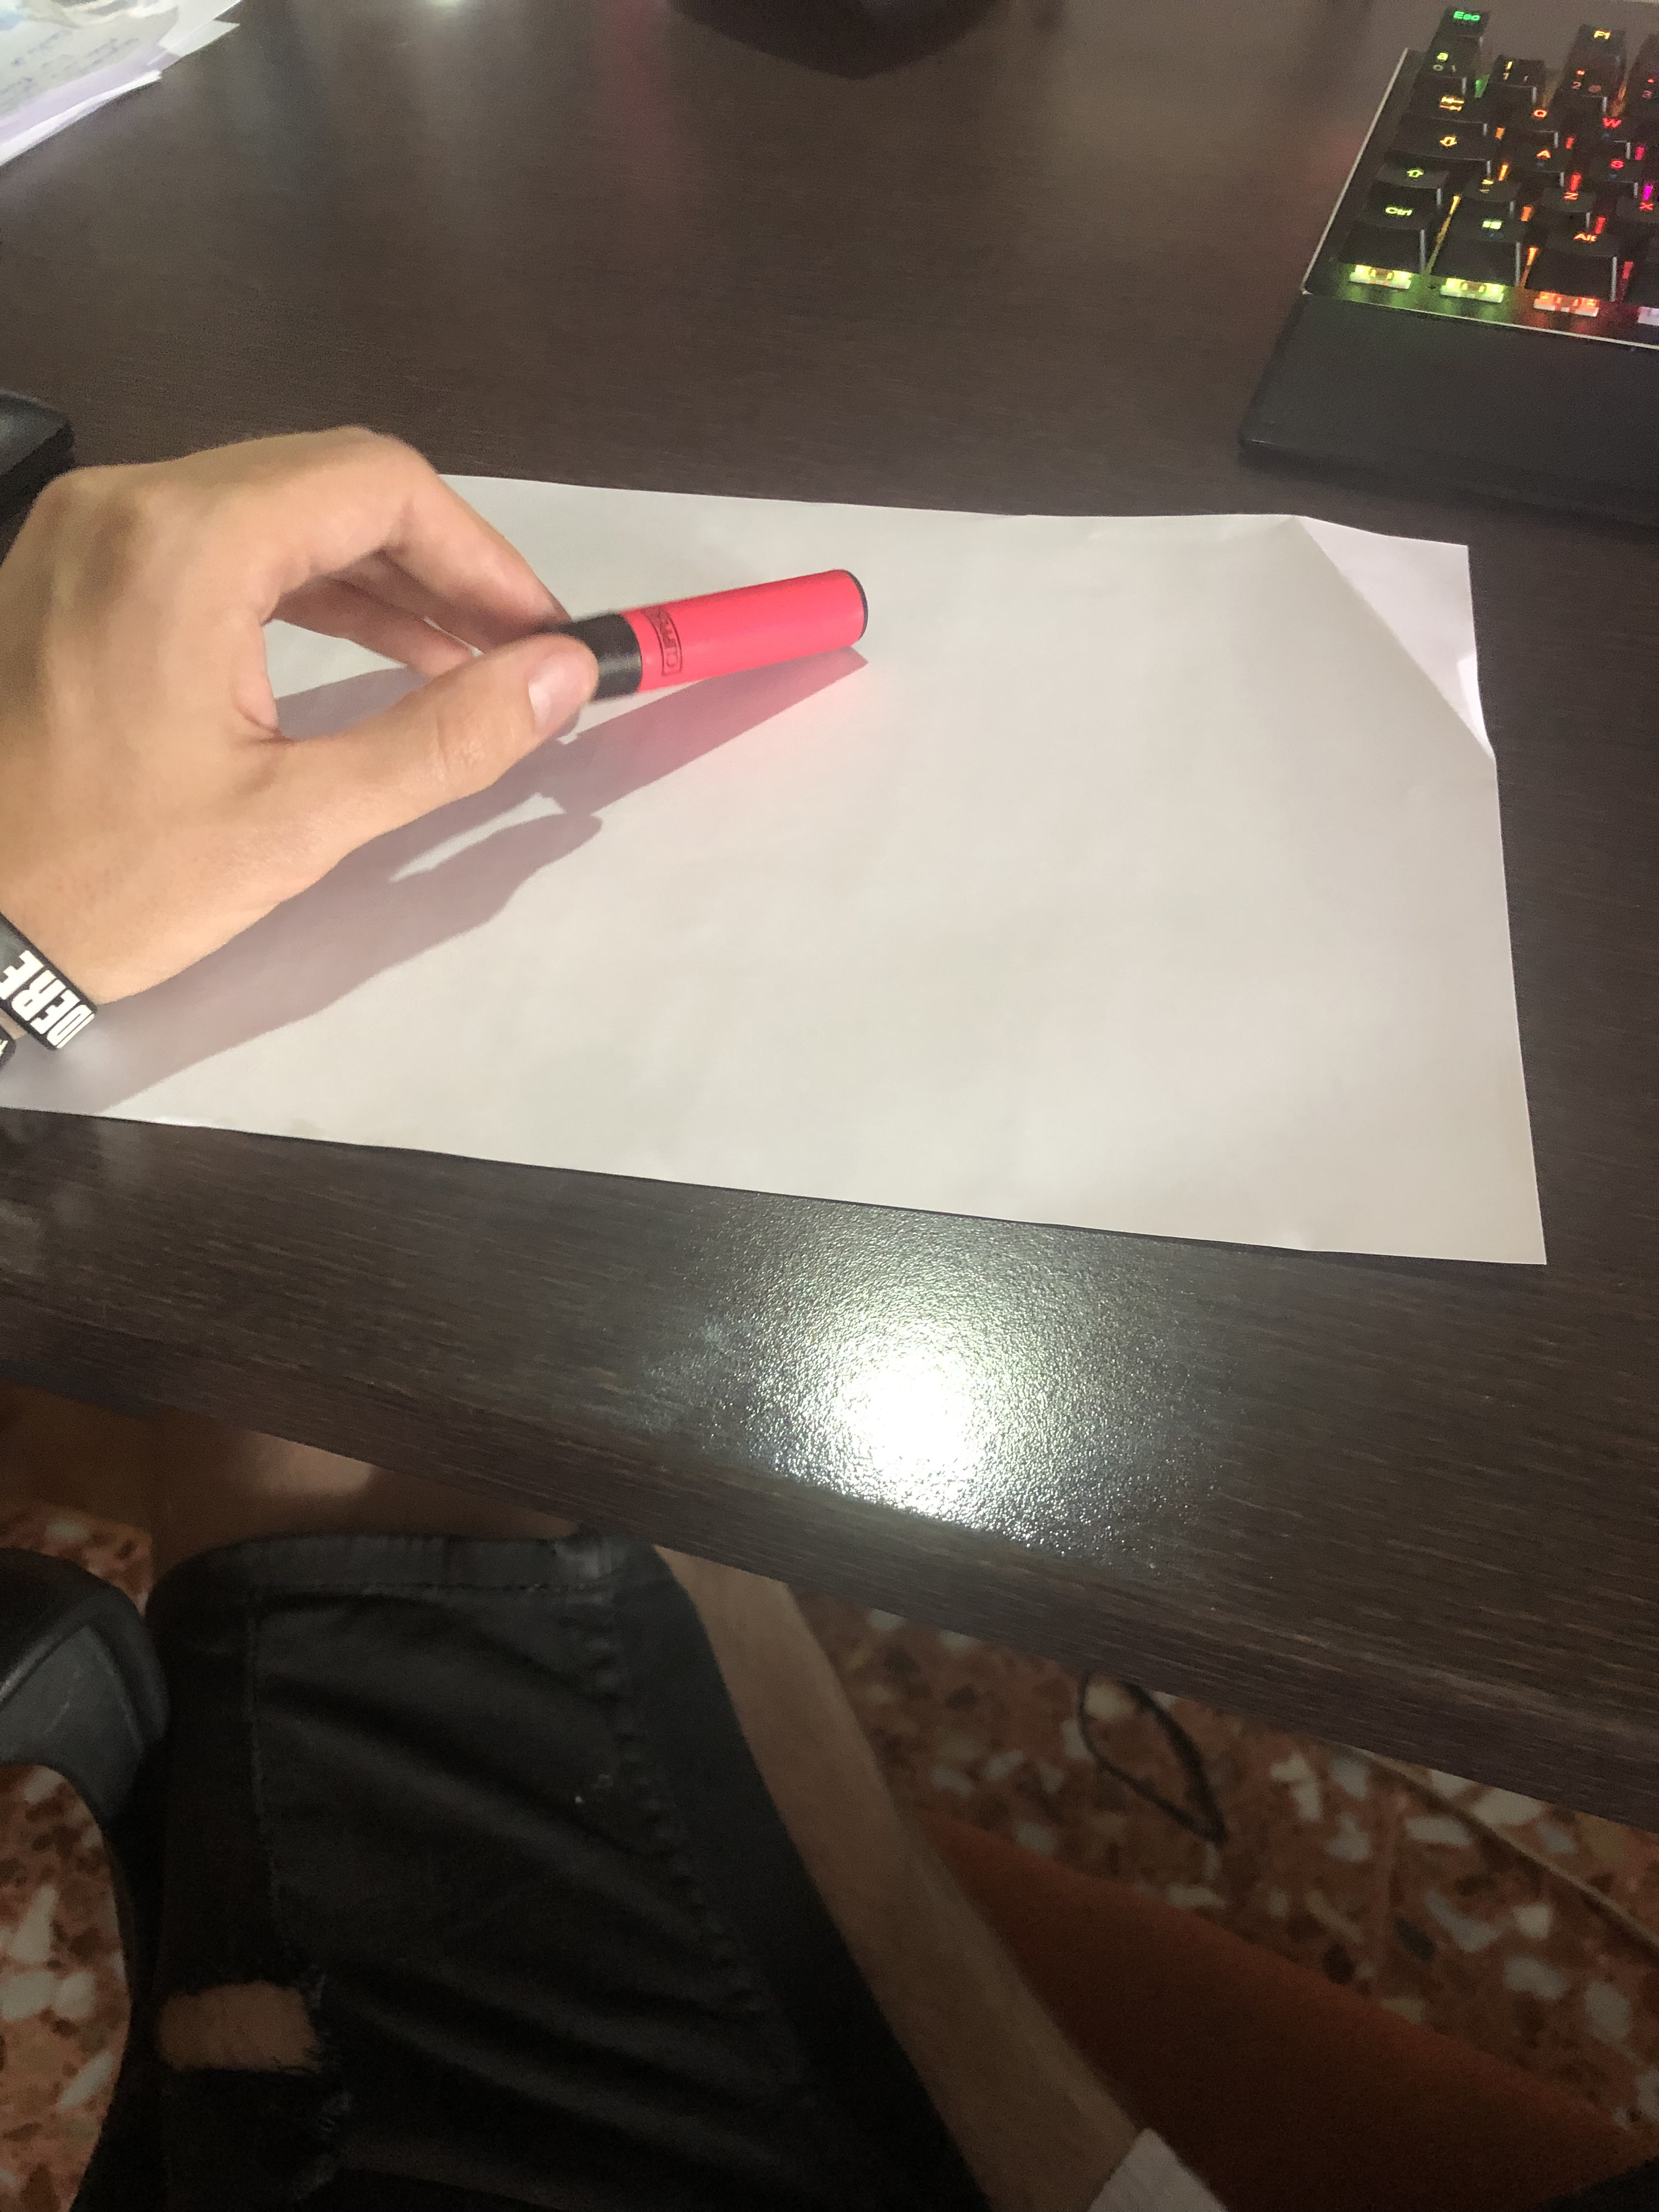Mechero: (540, 563, 878, 683)
